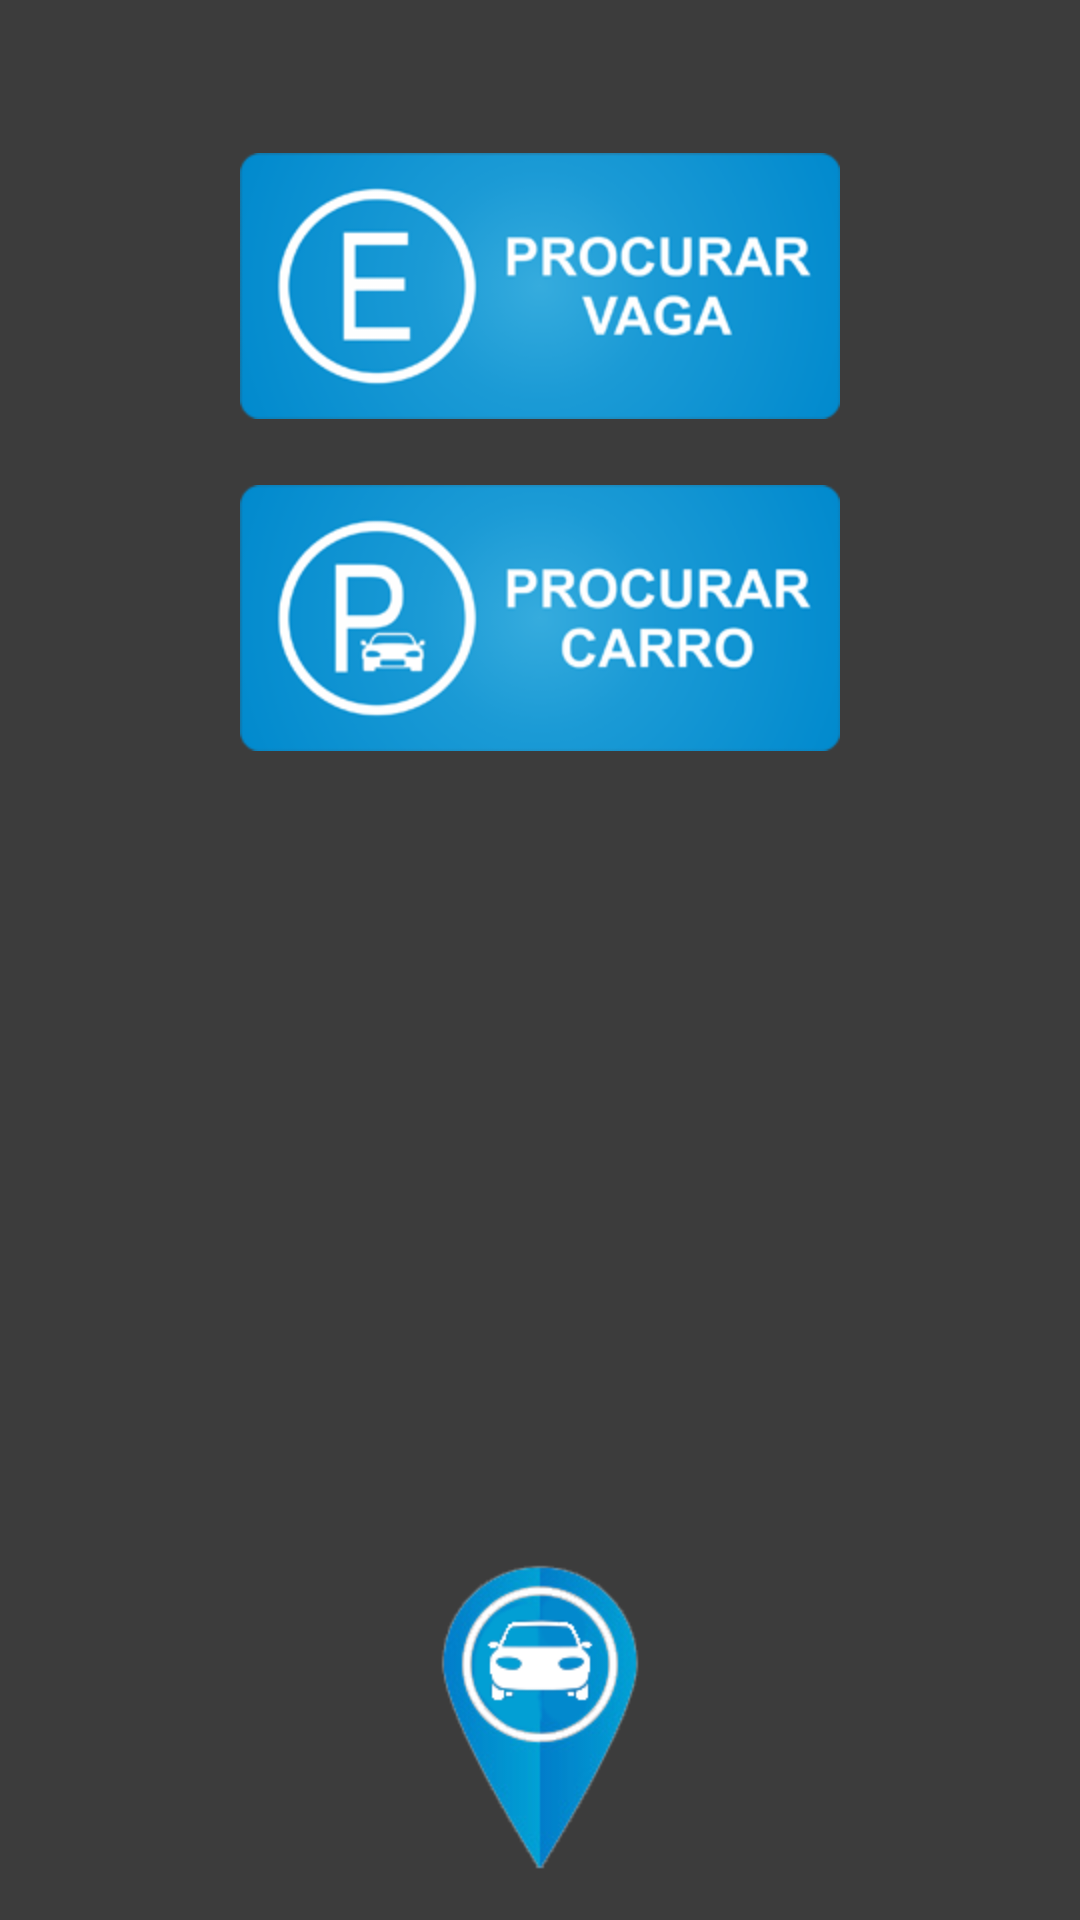

Named icons in this screenshot (1080*1920) and their centers, [x,y]:
marcar vaga: [540,1717]
